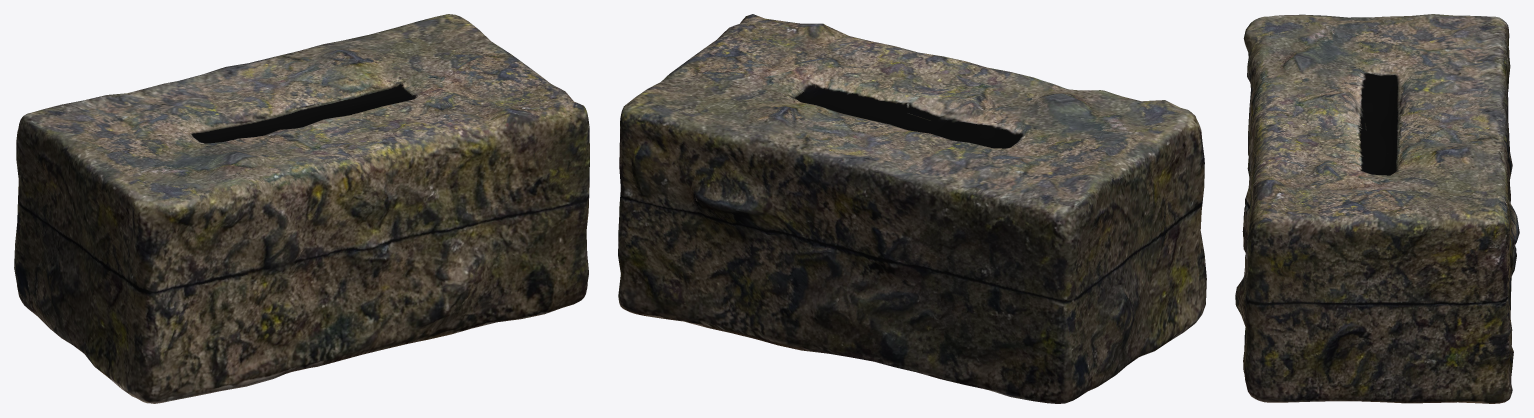
Rendered from Kreasi Imah Kertas_Tempat_Tisu_2.glb.
The picture shows the model from 3 angles, left to right: view 1: azimuth 30°, elevation 25°; view 2: azimuth 150°, elevation 25°; view 3: azimuth 270°, elevation 25°; orthographic projection. The views are drawn at different scales.
Visible parts, largest first — view 1: Tempat Tisu_2 - Ver AR; view 2: Tempat Tisu_2 - Ver AR; view 3: Tempat Tisu_2 - Ver AR.
Part boxes in pixels (x1=…): Tempat Tisu_2 - Ver AR: x1=14, y1=14, x2=589, y2=403; Tempat Tisu_2 - Ver AR: x1=618, y1=14, x2=1206, y2=403; Tempat Tisu_2 - Ver AR: x1=1235, y1=14, x2=1519, y2=403.
Bounding box in the file's own units: 0.9929 × 0.433 × 0.5624.
Materials: 1 (1 with a texture image).
